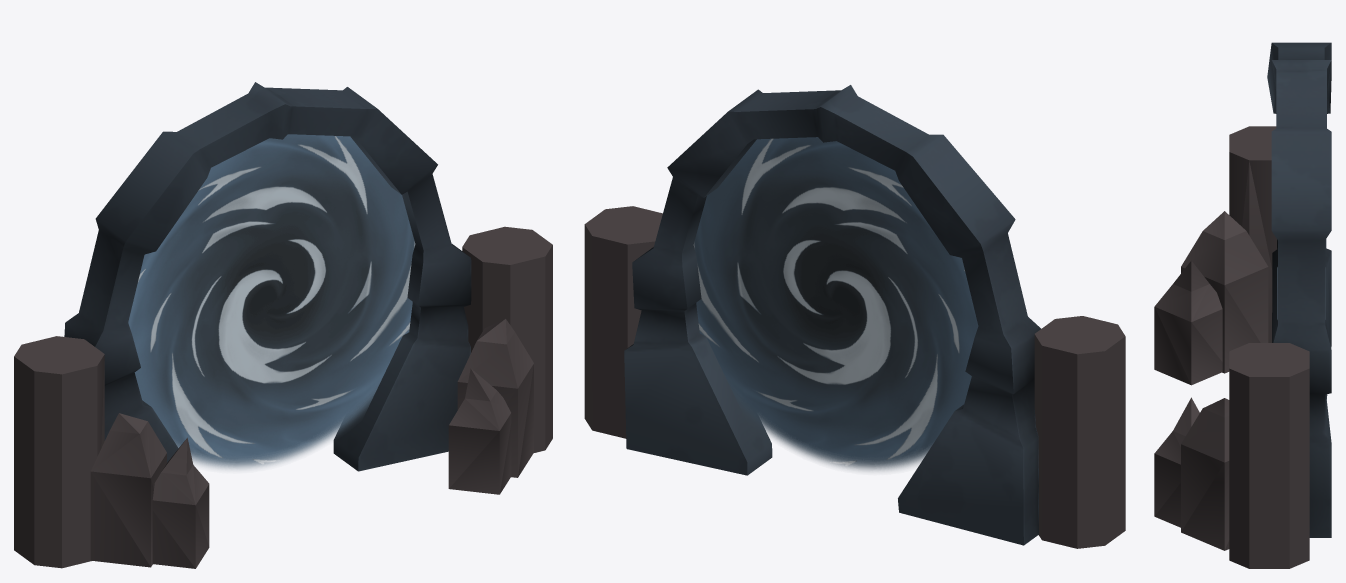
Rendered from portal.glb.
3 renders of one model, left to right at view 1: azimuth 30°, elevation 25°; view 2: azimuth 150°, elevation 25°; view 3: azimuth 270°, elevation 25°, orthographic.
Parts seen in each view (by area): view 1: portal-col, spin; view 2: portal-col, spin; view 3: portal-col.
Part boxes in pixels (box(x1,y1,x2,y2)): portal-col: box(14, 82, 552, 568); spin: box(128, 134, 415, 469); portal-col: box(584, 85, 1125, 548); spin: box(693, 137, 978, 471); portal-col: box(1154, 42, 1331, 568).
Bounding box in the file's own units: 18.38 × 17.99 × 5.49.
Materials: 3 (2 with a texture image).
